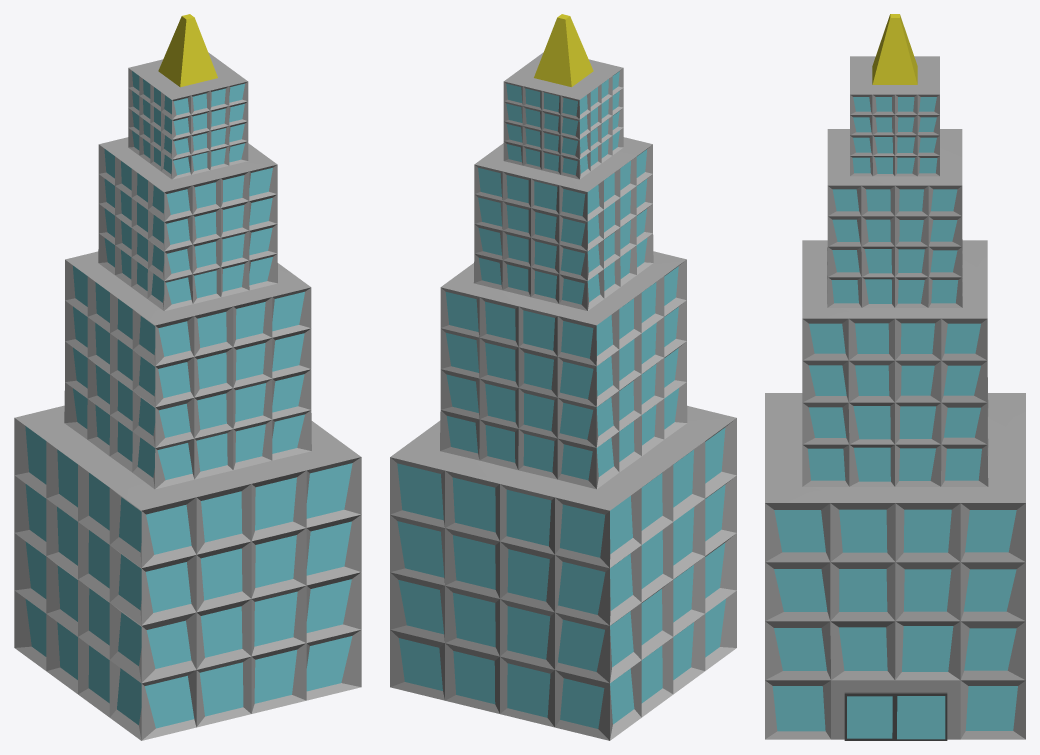
File: skyscraper.fbx
The picture shows the model from 3 angles, left to right: view 1: azimuth 30°, elevation 25°; view 2: azimuth 150°, elevation 25°; view 3: azimuth 270°, elevation 25°; orthographic projection. The views are drawn at different scales.
Visible parts, largest first — view 1: pCube14; view 2: pCube14; view 3: pCube14.
Boxes of the visible parts, x1,y1,x2,y2 form: pCube14: (14, 14, 361, 740); pCube14: (390, 14, 736, 740); pCube14: (765, 14, 1025, 740).
Size of the model in its own units: 312 by 871 by 308.
